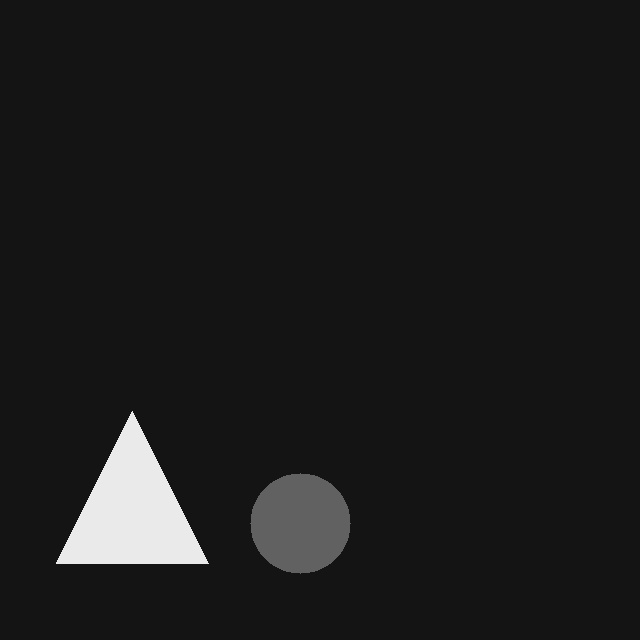circle: (250, 473, 350, 573)
triangle: (56, 411, 208, 563)
